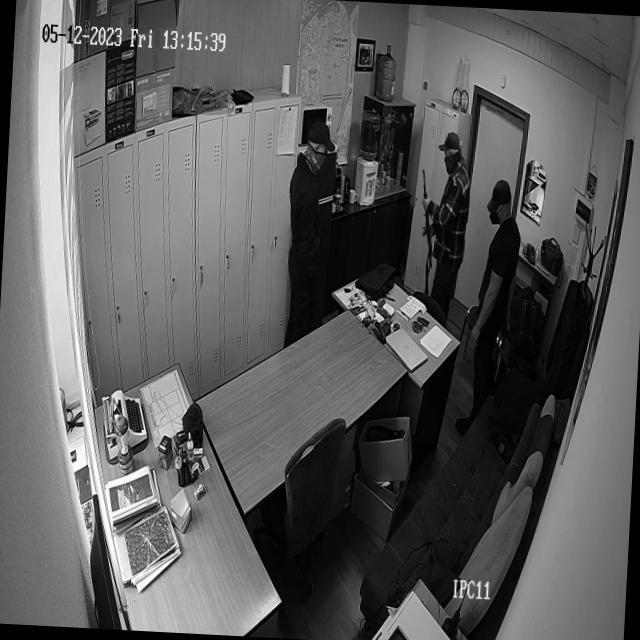gun: (411, 167, 439, 298), (499, 322, 516, 356)
person: (279, 115, 337, 353)
person with a gun: (452, 177, 524, 452), (413, 130, 468, 326)
